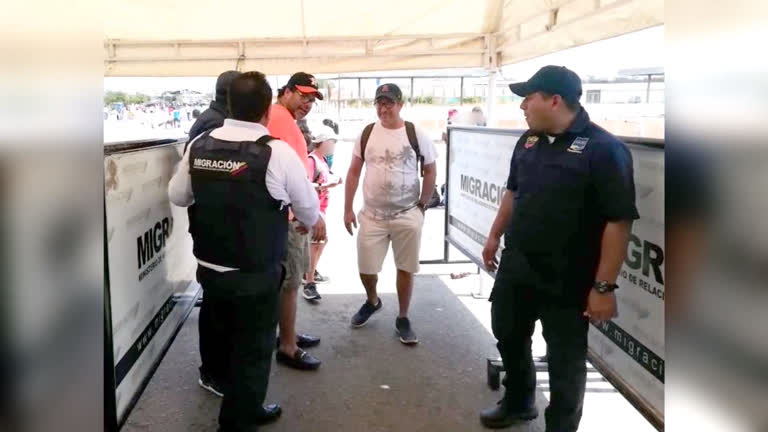Humano: (479, 61, 638, 431), (167, 69, 300, 426), (342, 79, 438, 345), (262, 64, 328, 372), (304, 125, 345, 308)
